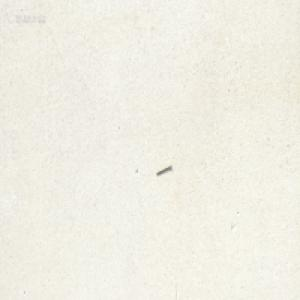Bolt: (155, 162, 171, 174)
